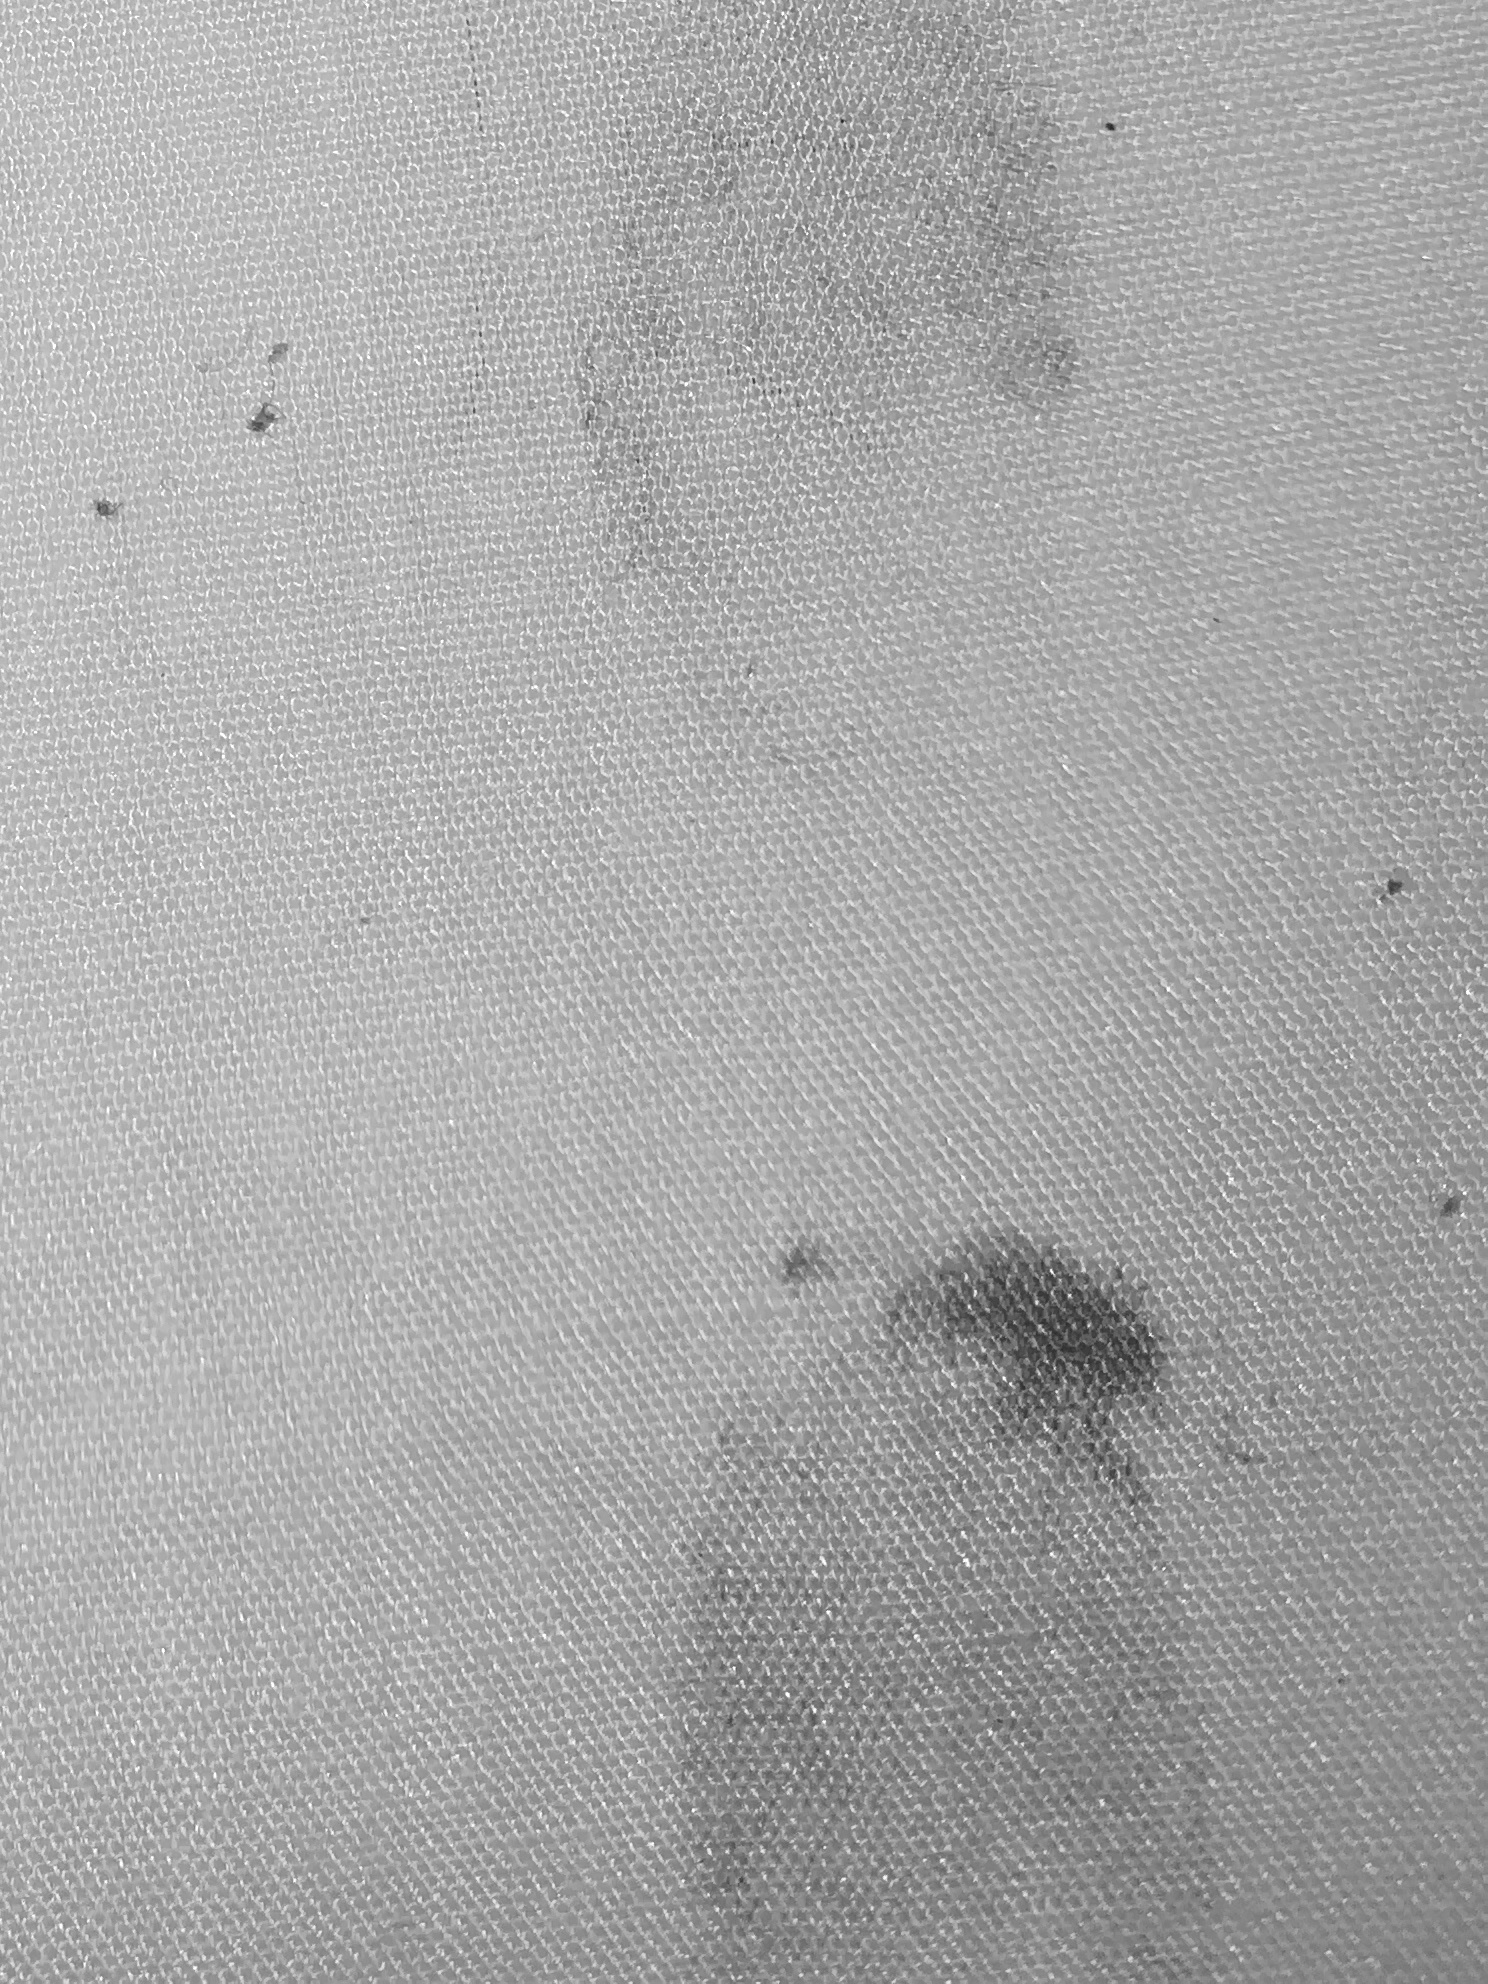Stain: (563, 1161, 1325, 1984), (478, 2, 1229, 790)
